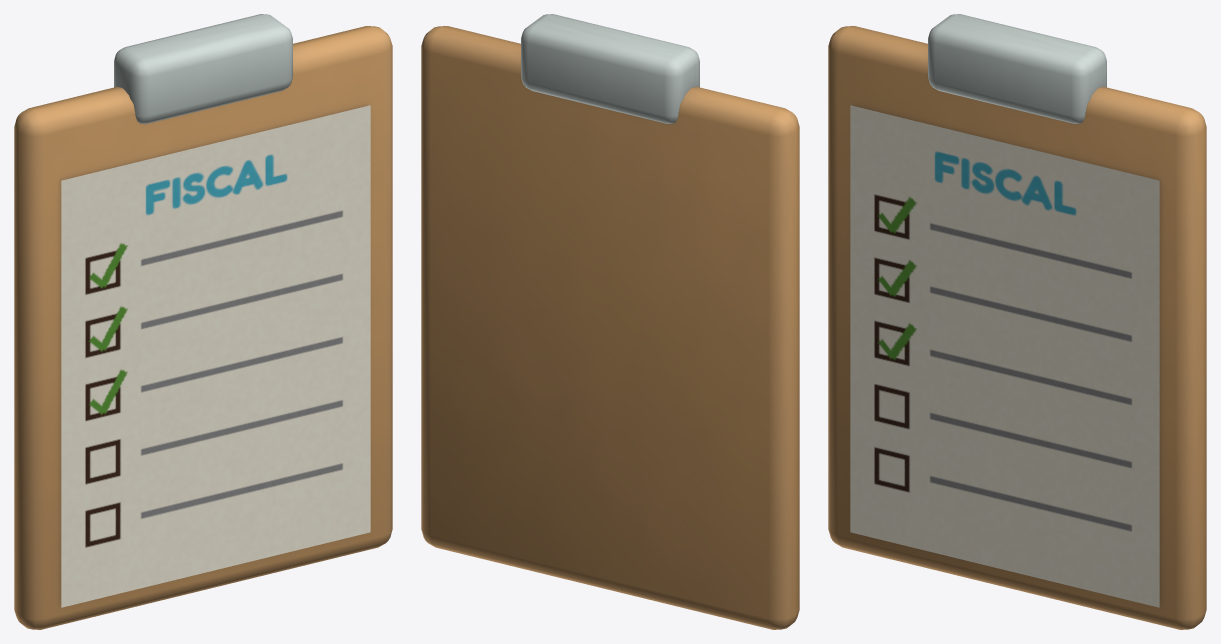
File: ClipboardIcon.fbx
3 renders of one model, left to right at view 1: azimuth 30°, elevation 25°; view 2: azimuth 150°, elevation 25°; view 3: azimuth 330°, elevation 25°, orthographic.
Visible parts, largest first — view 1: ClipboardIcon; view 2: ClipboardIcon; view 3: ClipboardIcon.
Boxes of the visible parts, x1,y1,x2,y2 form: ClipboardIcon: [14, 14, 392, 629]; ClipboardIcon: [421, 14, 799, 629]; ClipboardIcon: [828, 14, 1206, 629].
Bounding box in the file's own units: 60 × 85 × 8.
